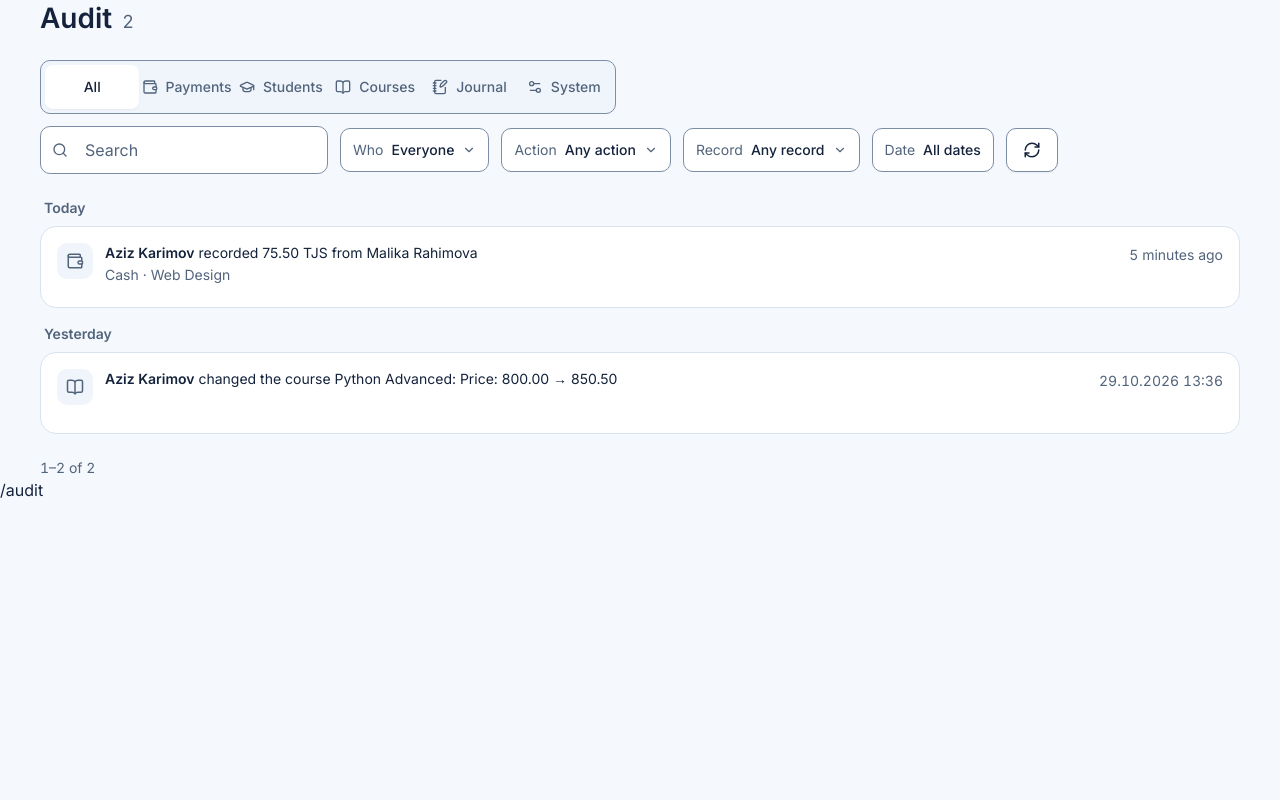
Test: Audit events › lists every field before and after in the inspector
Click the button "recorded 75.50 TJS": (75, 261) [45, 231, 1235, 303]
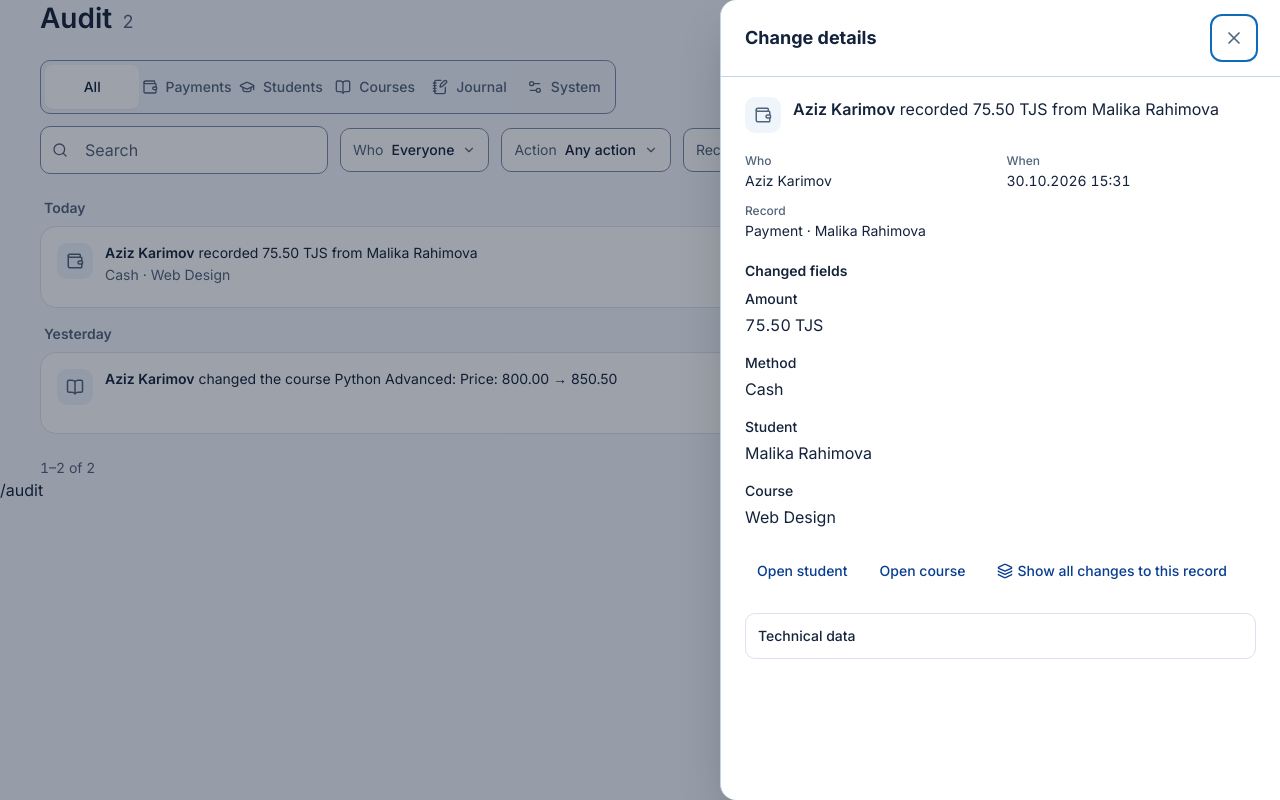
Expected: the text "Amount" is shown, [745, 290, 797, 307]
Expected: the text "Method" is shown, [745, 354, 796, 371]
Expected: the text "Student" is shown, [745, 418, 797, 435]
